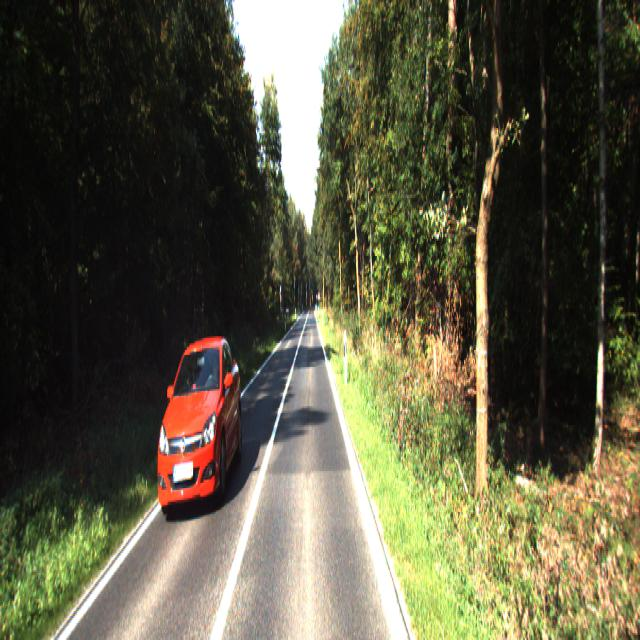Car: (152, 330, 246, 520)
